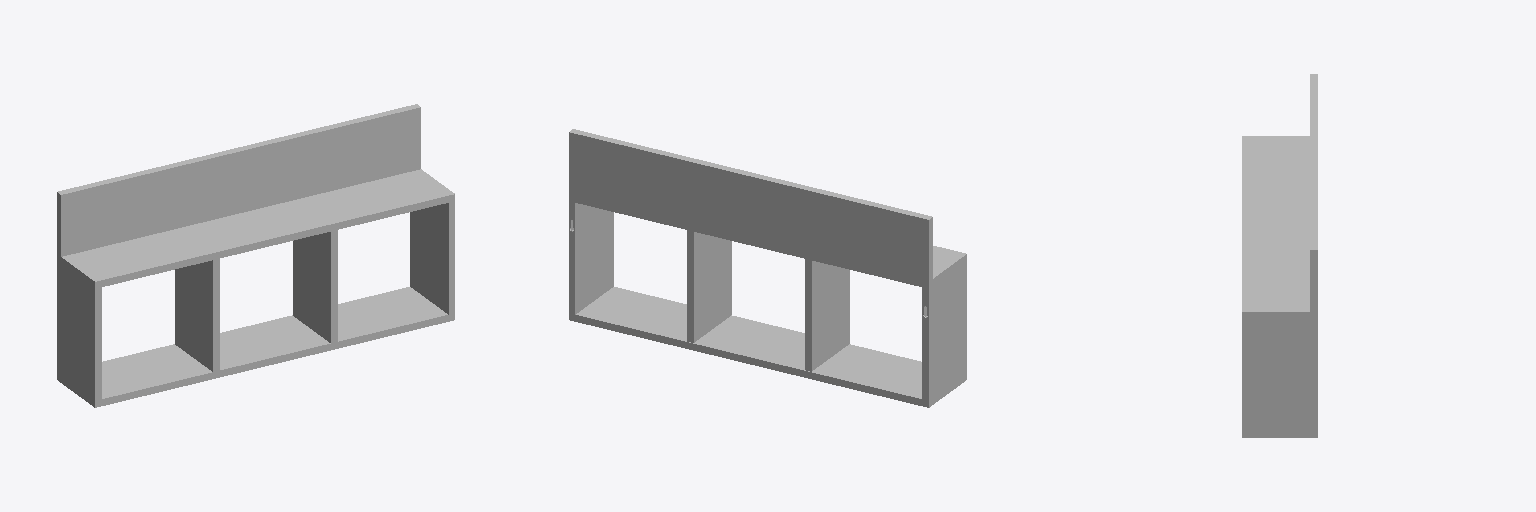
File: shelf-040.obj
The picture shows the model from 3 angles: view 1: azimuth 30°, elevation 25°; view 2: azimuth 150°, elevation 25°; view 3: azimuth 270°, elevation 25°; orthographic projection.
Parts seen in each view (by area): view 1: shelf; view 2: shelf; view 3: shelf.
Boxes of the visible parts, x1=… form: shelf: x1=57, y1=104, x2=454, y2=407; shelf: x1=569, y1=129, x2=966, y2=407; shelf: x1=1242, y1=74, x2=1317, y2=437.
Bounding box in the file's own units: 0.8 × 0.3991 × 0.148.